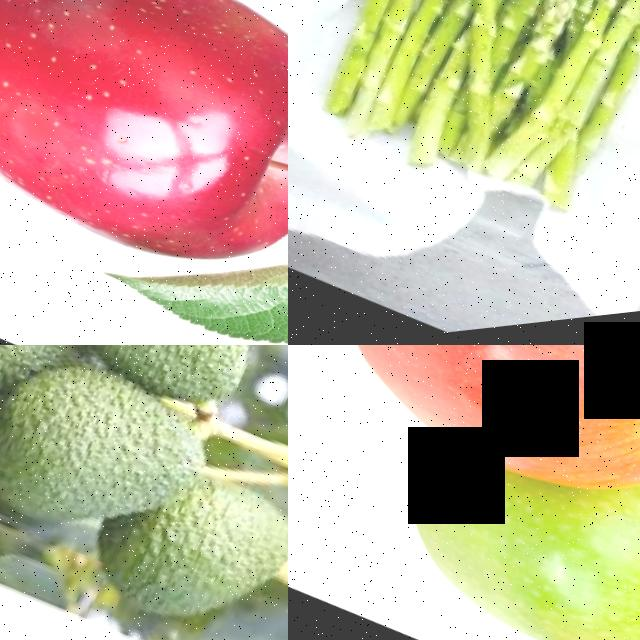apple: (0, 0, 288, 345), (288, 345, 640, 577), (343, 405, 640, 640)
asparagus: (288, 0, 467, 126), (346, 0, 507, 139), (318, 0, 464, 150), (507, 0, 634, 161), (365, 0, 482, 165), (549, 0, 640, 161), (381, 65, 472, 194), (574, 0, 640, 170)
avocado: (0, 345, 240, 604), (118, 462, 288, 640), (45, 345, 288, 448), (0, 345, 103, 429)
